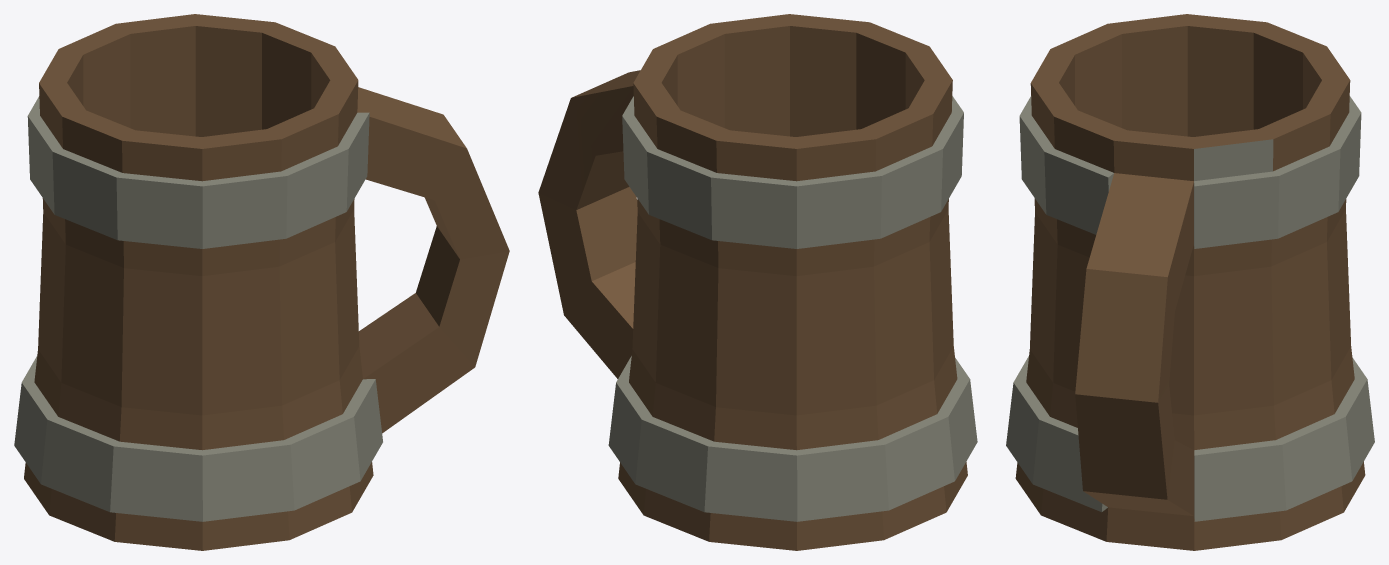
File: Cup.fbx
The picture shows the model from 3 angles, left to right: view 1: azimuth 30°, elevation 25°; view 2: azimuth 150°, elevation 25°; view 3: azimuth 270°, elevation 25°; orthographic projection.
Visible parts, largest first — view 1: Cup; view 2: Cup; view 3: Cup.
Part boxes in pixels (x1,y1,x2,y2): Cup: (14,14,509,550); Cup: (538,14,977,550); Cup: (1006,14,1374,550).
Bounding box in the file's own units: 0.2745 × 0.2409 × 0.2037.
